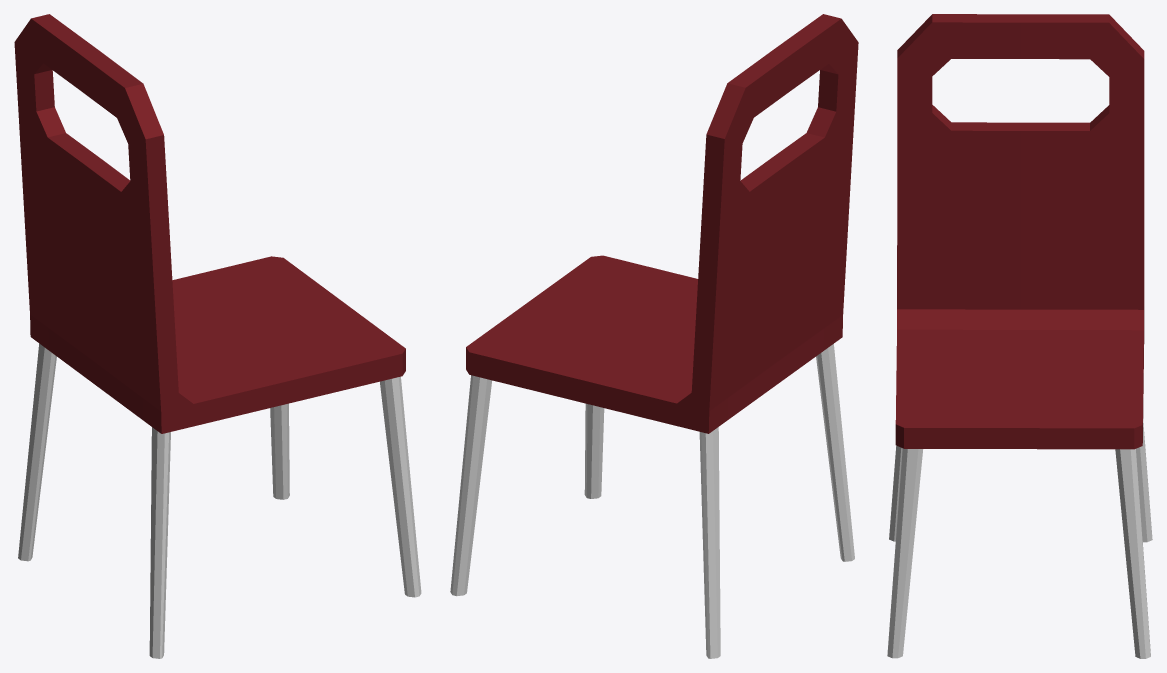
Rendered from chair2.fbx.
3 views of the same model, side by side, from view 1: azimuth 30°, elevation 25°; view 2: azimuth 150°, elevation 25°; view 3: azimuth 270°, elevation 25° (orthographic). The views are drawn at different scales.
Parts seen in each view (by area): view 1: chair2; view 2: chair2; view 3: chair2.
Boxes of the visible parts, bbox=[...] form: chair2: bbox=[14, 14, 421, 658]; chair2: bbox=[450, 14, 858, 658]; chair2: bbox=[887, 14, 1152, 658].
Bounding box in the file's own units: 72.42 × 139 × 64.48.
